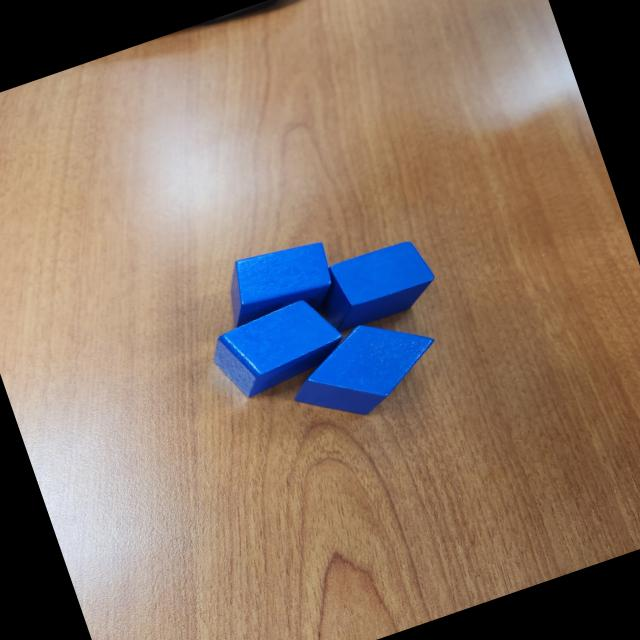blue: (278, 303, 451, 435), (204, 290, 353, 407), (302, 234, 443, 338), (213, 232, 342, 334)
